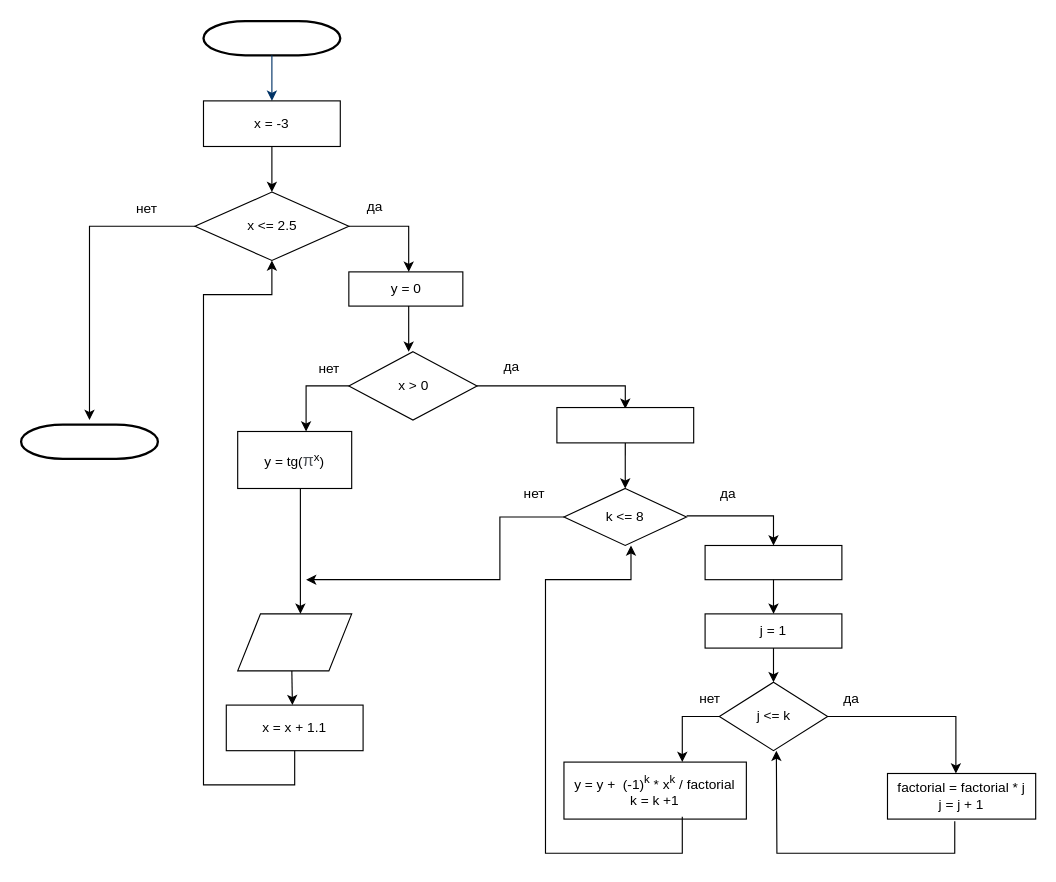
Image size: 1056x882. Some labels were removed from this diagram. The shapes that lost their labels are listed below. From the top down, each one's box as (x1, y1, x2, y2) in pixels, then its label:
(202, 19, 341, 56): start
(19, 423, 158, 459): end
(556, 406, 694, 443): k = 1
(704, 544, 842, 580): factorial = 1
(237, 613, 352, 671): вывод x, y
